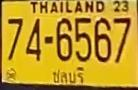4: (25, 17, 40, 60)
5: (74, 17, 91, 61)
6: (93, 17, 110, 61), (56, 17, 72, 60)
7: (113, 17, 130, 62), (7, 17, 22, 60)
CBI: (50, 66, 85, 86)
